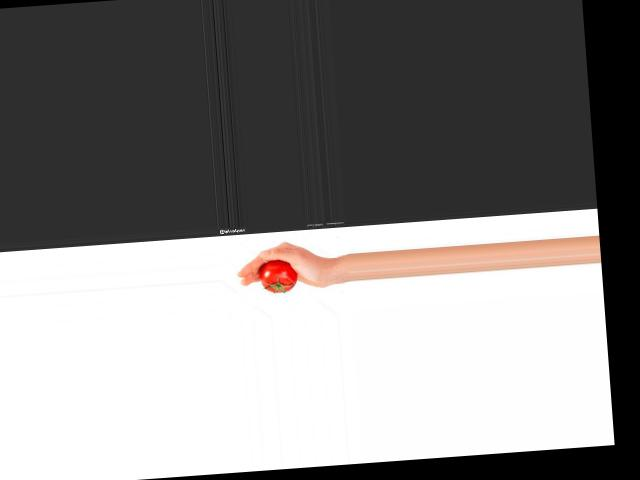tomato: (260, 258, 299, 293)
